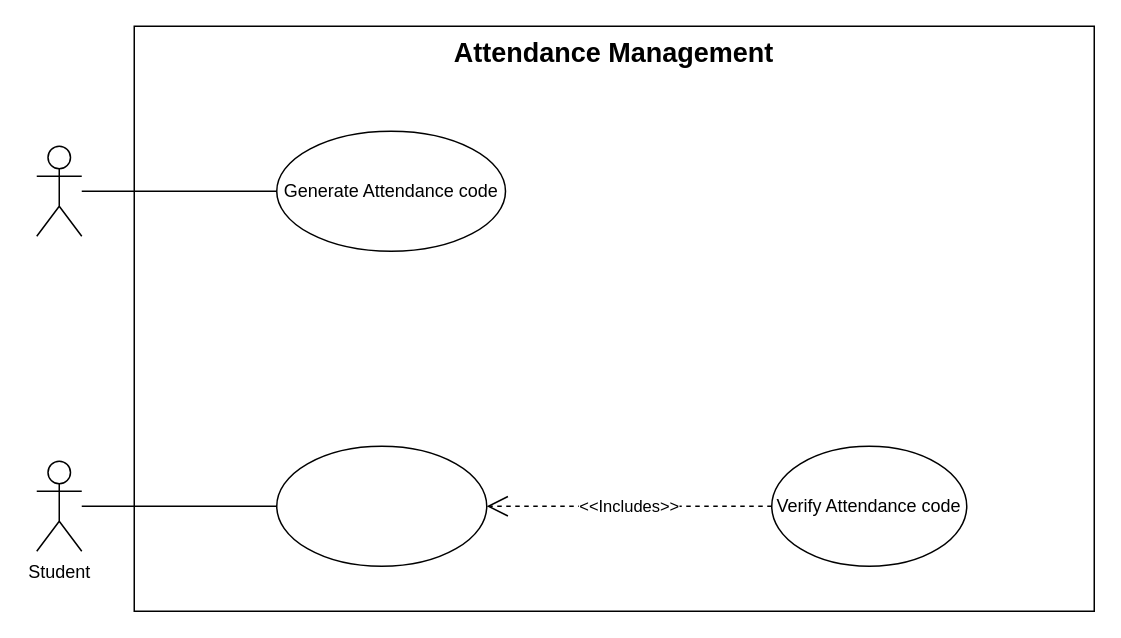
This 1121x638 diagram has some shape labels left out. Here are the shapes that lost their labels. From the top down, the centre of each, then its label:
At (x=58, y=190): "Lecturer".
At (x=381, y=505): "Submit Attendance code".
